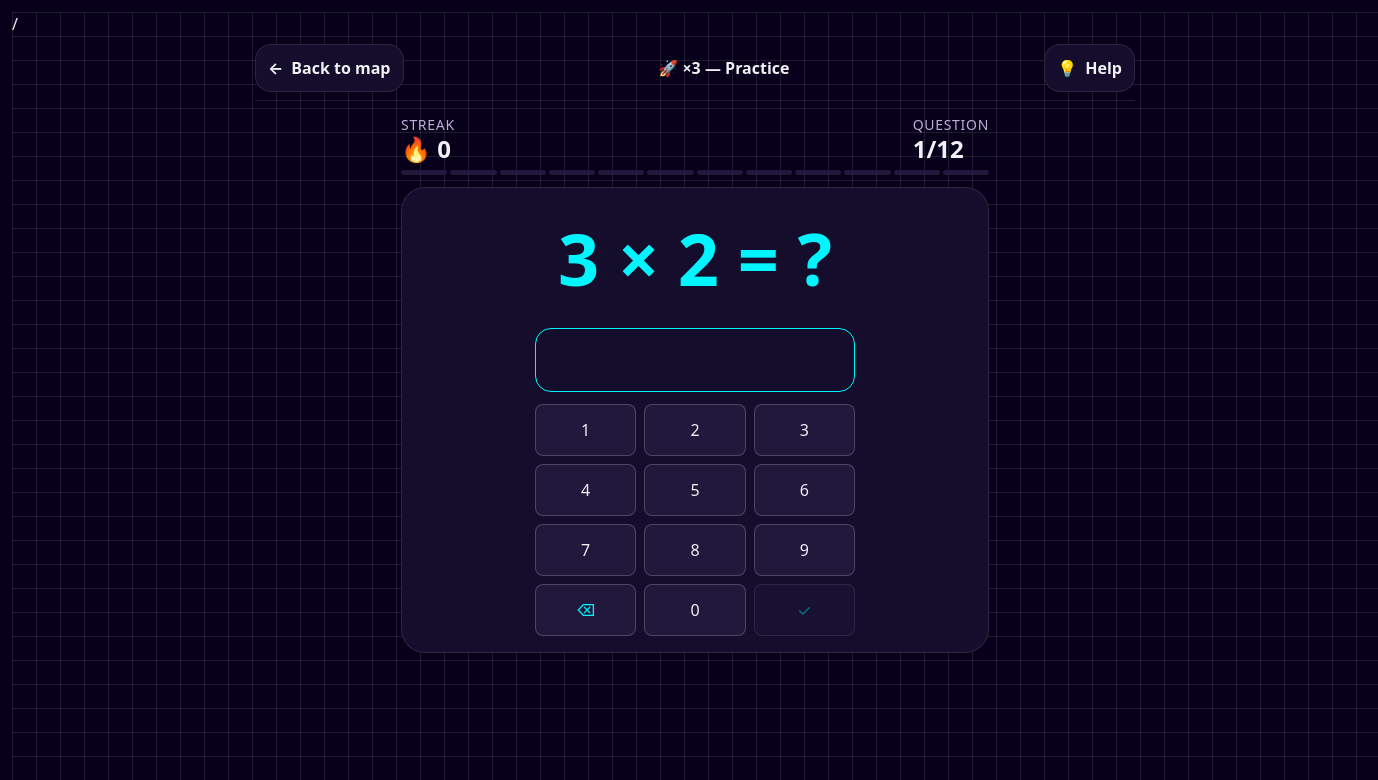
Test case: PracticePhase › returns to the galaxy map from the exit control
Click the button "← Back to map". click: coordinates (329, 68)
box: [255, 44, 404, 92]
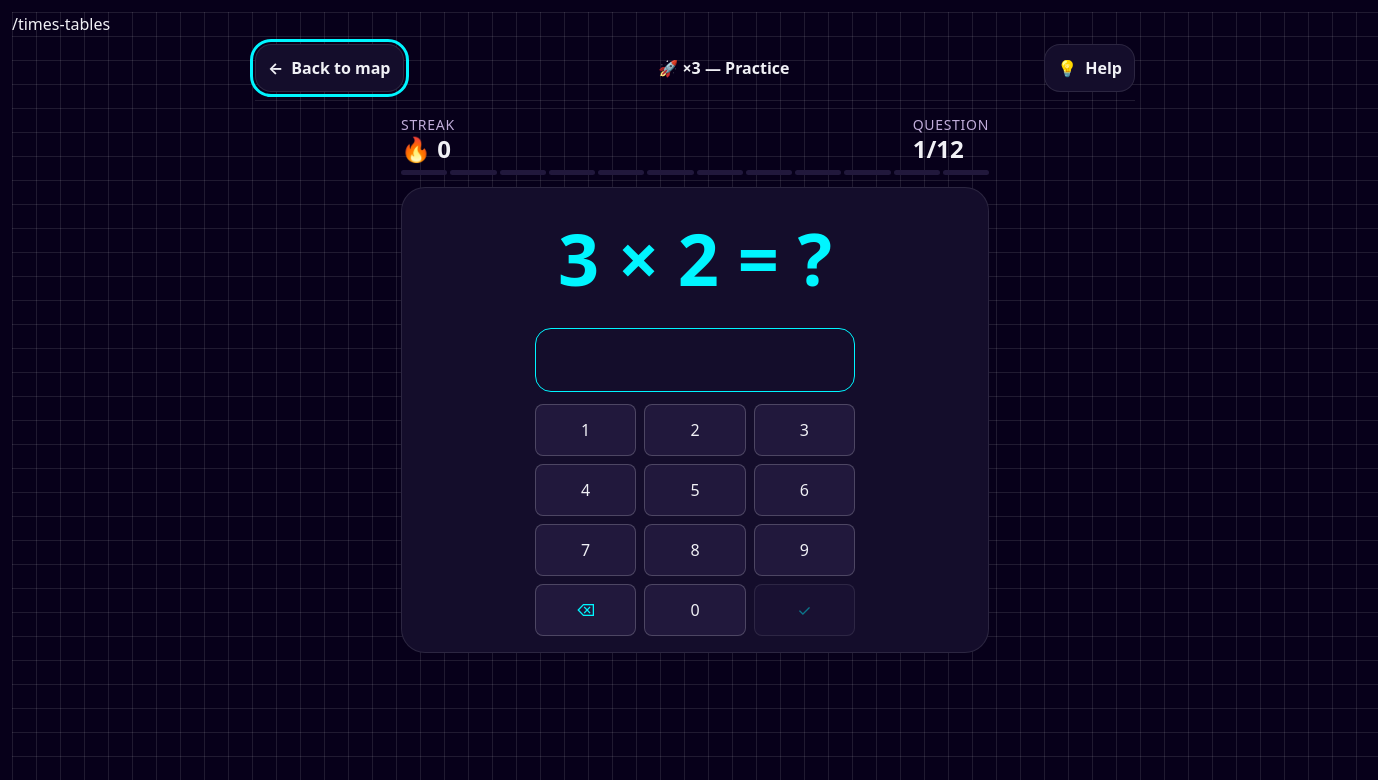
expect the text with test id "test-location" reads "/times-tables": met, box [12, 13, 110, 35]
